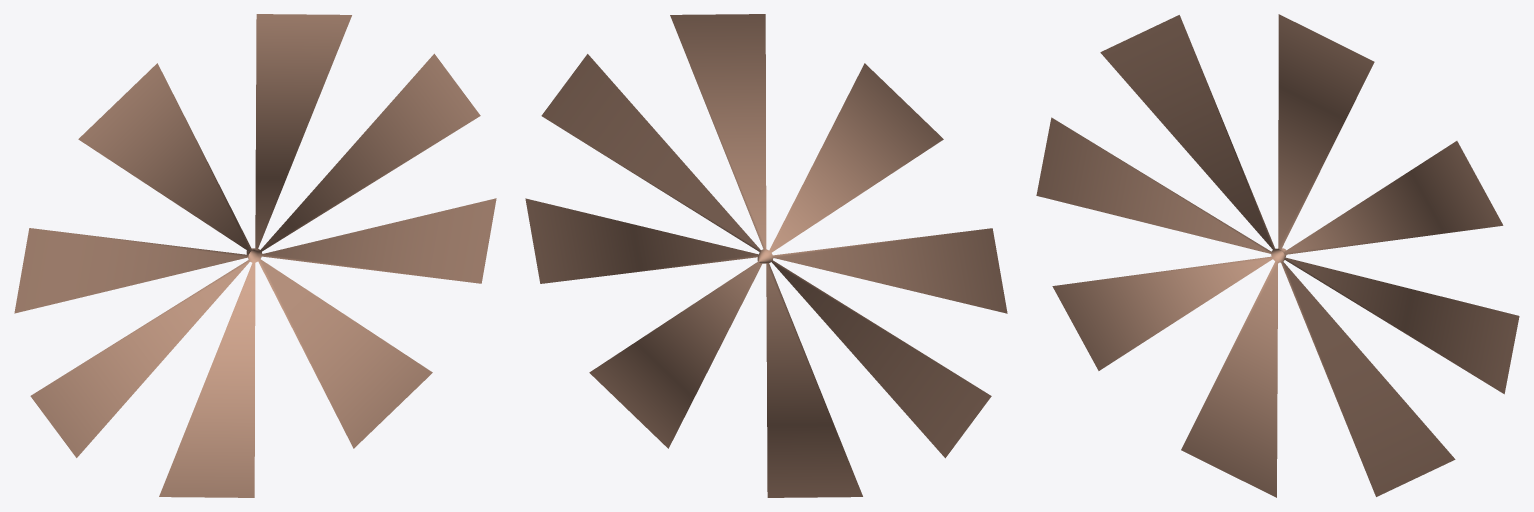
File: Helice.fbx
3 renders of one model, left to right at view 1: azimuth 30°, elevation 25°; view 2: azimuth 150°, elevation 25°; view 3: azimuth 330°, elevation 25°, orthographic.
Parts seen in each view (by area): view 1: Helices; view 2: Helices; view 3: Helices.
Boxes of the visible parts, x1=… form: Helices: x1=14, y1=14, x2=496, y2=497; Helices: x1=525, y1=14, x2=1007, y2=497; Helices: x1=1036, y1=14, x2=1519, y2=497.
Size of the model in its own units: 4787 by 4587 by 134.
